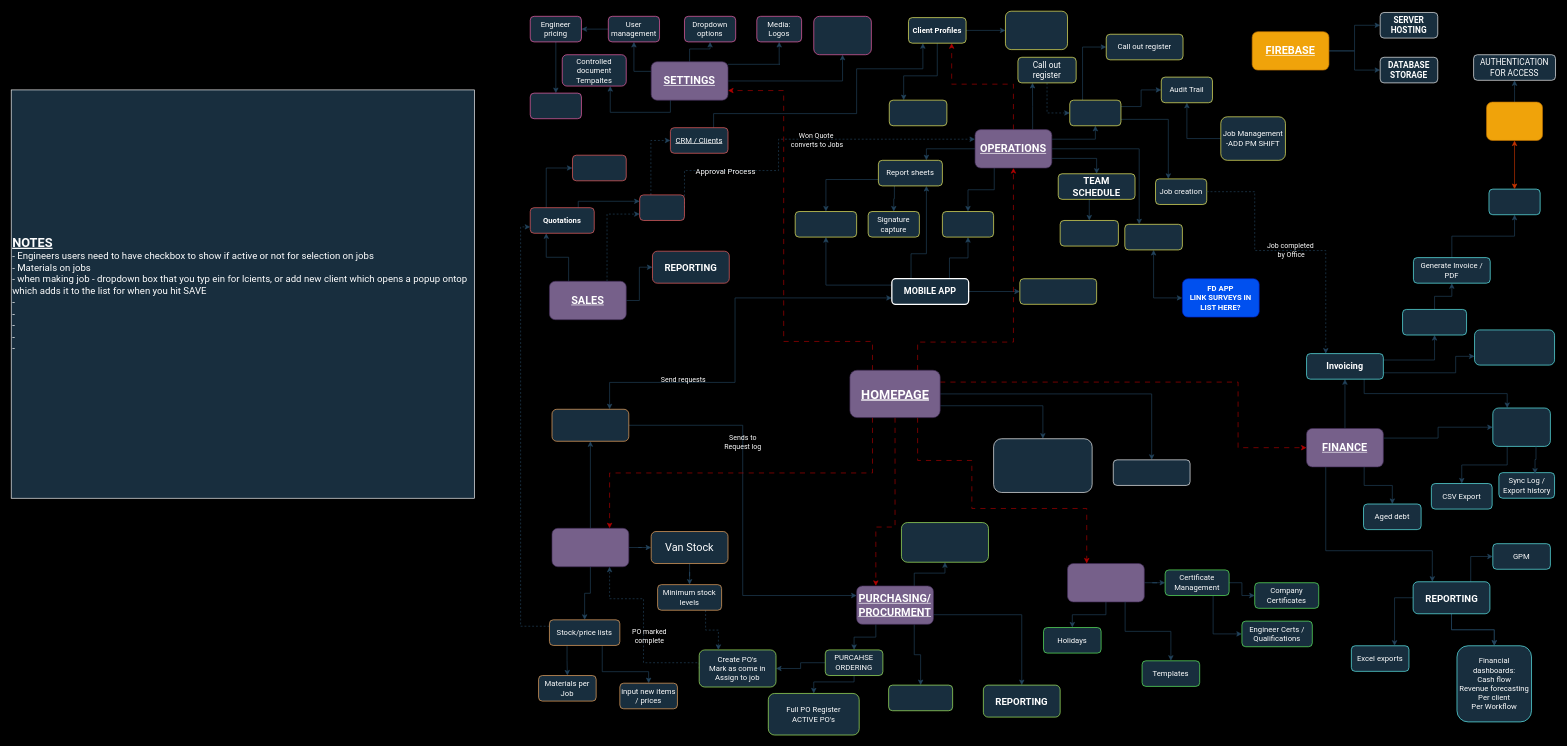
The diagram is 1567 pixels wide and 746 high, and some of its shapes have lost their labels. Each missing label, with the centre of its shape:
Assigned jobs: pixel 968 224
COSTS Van Labour rates: pixel 555 105
Email invoice: pixel 1514 201
Engineer request log: pixel 920 697
Engineer requests: pixel 590 425
Finance: Nominal Codes: pixel 842 35
Generate quotes: pixel 599 168
HR / QUALITY: pixel 1105 582
Image storage / upload: pixel 826 224
Invoice log | Jobs completed: pixel 1434 322
Invoice tracking: -Clients -Uploaded to SAGE: pixel 1514 347
Job history Notes Contact Details: pixel 1036 30
Job Management: pixel 1095 113
Link to Sharepoint folder: pixel 918 113
LINKS TO OTHER SECTIONS: pixel 1151 472
O365: pixel 1514 120
OVERVIEWS: WIP Invoiced this month Remaining scheduled invoicing: pixel 1042 465
PPM FD surveys: pixel 1153 237
Quote Log: pixel 661 207
Record non-comformities: pixel 1058 291
SAGE 50 / XERO: pixel 1521 426
Supplier management: Supplier Status: pixel 944 542
Table / Map view: pixel 1089 233
WAREHOUSE: pixel 590 547
